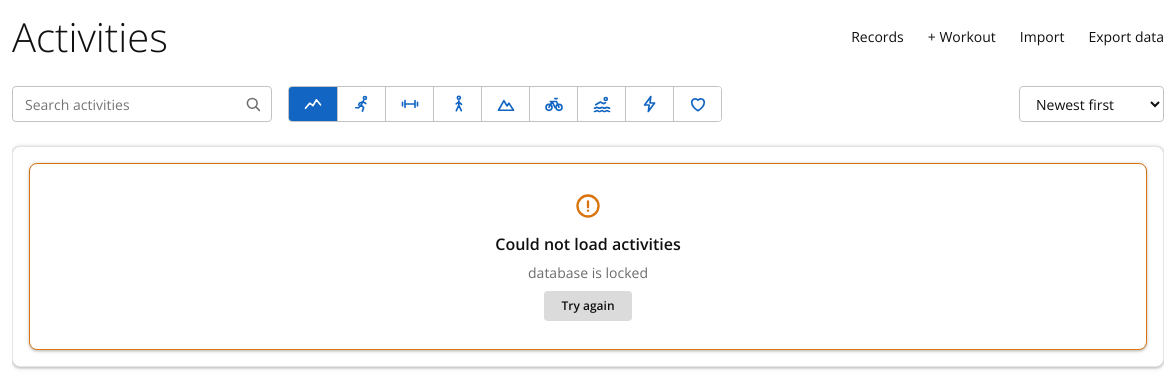
it: ActivitiesPage › shows an error with a retry
Check: the message shows "database is locked", box [528, 263, 648, 282]
Click the button "Try again" at (588, 306), box [544, 291, 632, 321]
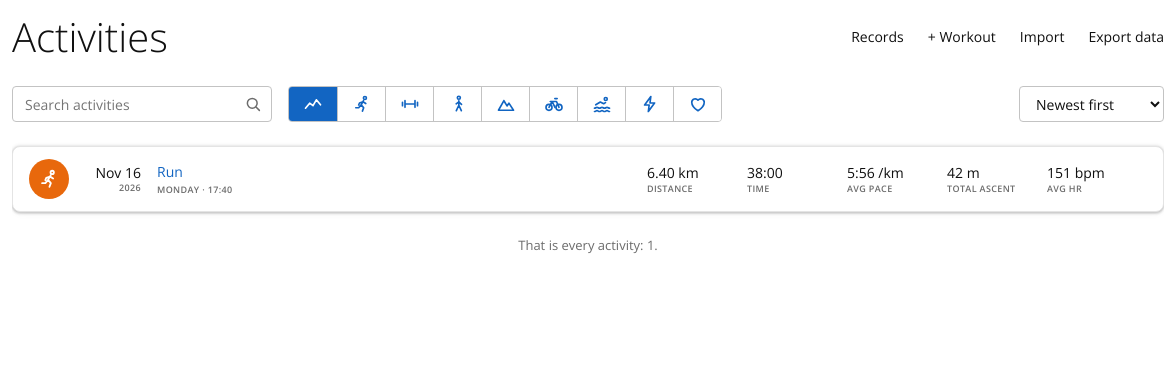
Check: the text "6.40 km" is shown, box [647, 163, 699, 182]
